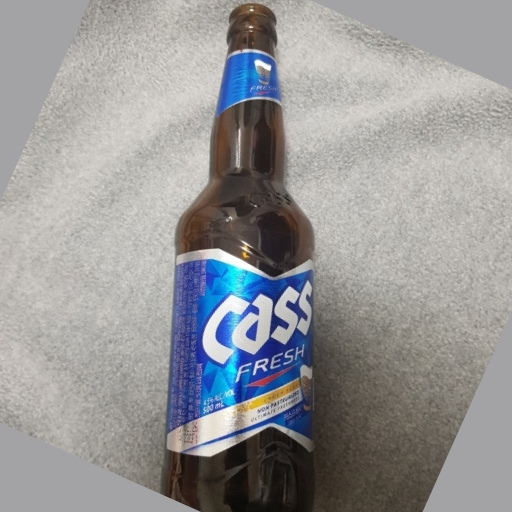Glass_1: (165, 2, 316, 512)
